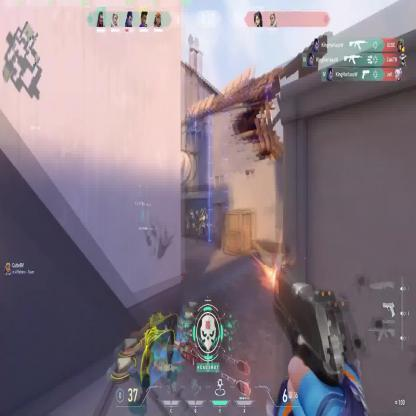enemy: (198, 206, 208, 242)
enemy_head: (200, 208, 204, 216)
